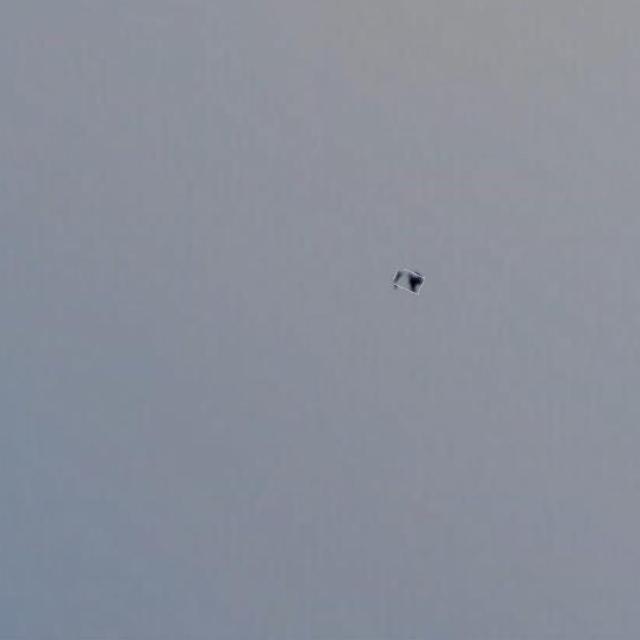plane: (392, 266, 427, 296)
